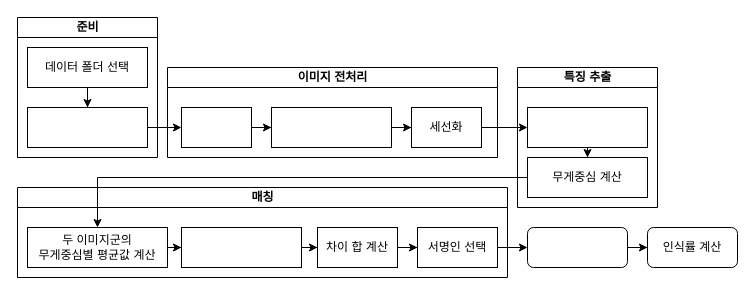
Image size: 755x295. Some labels were removed from this diagram. Here are the shapes that lost their labels. From the top down, the centre of each, then its label:
At (87,127): "서명인 이름 입력".
At (216,127): "이진화".
At (331,127): "바운딩박스 계산".
At (587,127): "이미지 나누기 (상좌/상우/하좌/하우)".
At (241,247): "(개별이미지-평균값) 차이 계산".
At (577,247): "매칭 결과 확인".
